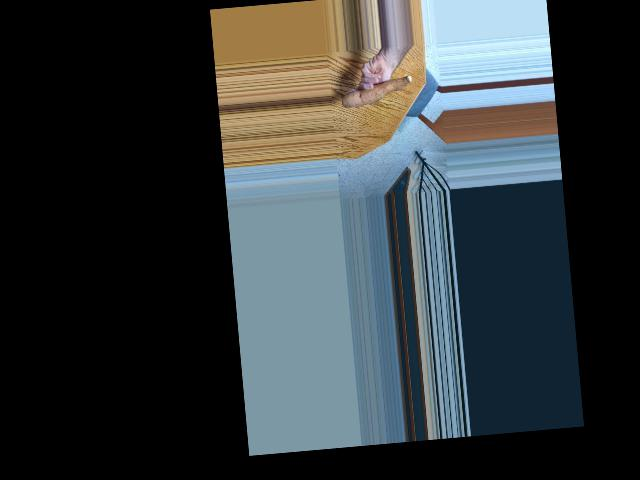sweet_potato: (340, 71, 414, 110)
